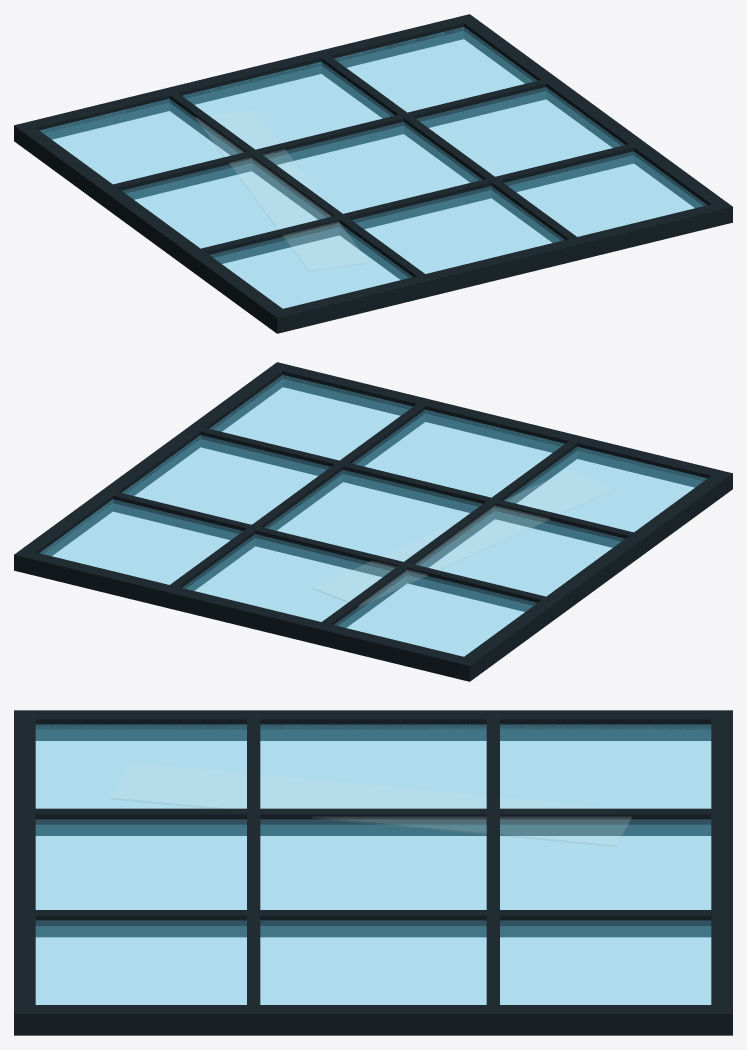
The model's file is skylight_3x3.glb.
3 views of the same model, one above another, from view 1: azimuth 30°, elevation 25°; view 2: azimuth 150°, elevation 25°; view 3: azimuth 270°, elevation 25° (orthographic). The views are drawn at different scales.
Visible parts, largest first — view 1: Glass_Surface, Frame_South, Frame_North, Mullion_Z_1, Mullion_Z_2, Reflection_Stripe, Frame_West, Frame_East, Mullion_X_1, Mullion_X_2; view 2: Glass_Surface, Frame_North, Frame_South, Mullion_Z_1, Mullion_Z_2, Reflection_Stripe, Frame_West, Frame_East, Mullion_X_2, Mullion_X_1; view 3: Glass_Surface, Frame_East, Frame_West, Mullion_X_1, Mullion_X_2, Reflection_Stripe, Frame_North, Frame_South, Mullion_Z_2, Mullion_Z_1.
Boxes of the visible parts, bbox=[...] form: Glass_Surface: bbox=[39, 27, 706, 308]; Frame_South: bbox=[269, 201, 732, 333]; Frame_North: bbox=[14, 14, 477, 146]; Mullion_Z_1: bbox=[113, 80, 546, 199]; Mullion_Z_2: bbox=[201, 144, 633, 263]; Reflection_Stripe: bbox=[196, 110, 368, 270]; Frame_West: bbox=[22, 128, 282, 327]; Frame_East: bbox=[464, 20, 724, 207]; Mullion_X_1: bbox=[169, 93, 424, 279]; Mullion_X_2: bbox=[321, 56, 576, 242]; Glass_Surface: bbox=[40, 375, 707, 656]; Frame_North: bbox=[14, 549, 477, 681]; Frame_South: bbox=[269, 362, 732, 494]; Mullion_Z_1: bbox=[113, 492, 545, 611]; Mullion_Z_2: bbox=[200, 428, 633, 547]; Reflection_Stripe: bbox=[313, 470, 615, 606]; Frame_West: bbox=[464, 476, 724, 675]; Frame_East: bbox=[22, 368, 282, 555]; Mullion_X_2: bbox=[170, 404, 425, 590]; Mullion_X_1: bbox=[322, 441, 577, 627]; Glass_Surface: bbox=[35, 724, 711, 1004]; Frame_East: bbox=[35, 1005, 711, 1035]; Frame_West: bbox=[35, 710, 711, 740]; Mullion_X_1: bbox=[35, 808, 711, 835]; Mullion_X_2: bbox=[35, 910, 711, 937]; Reflection_Stripe: bbox=[112, 762, 631, 846]; Frame_North: bbox=[711, 710, 732, 1035]; Frame_South: bbox=[14, 710, 35, 1035]; Mullion_Z_2: bbox=[247, 719, 260, 1004]; Mullion_Z_1: bbox=[486, 719, 499, 1004].
Size of the model in its own units: 3 by 0.1 by 3.
